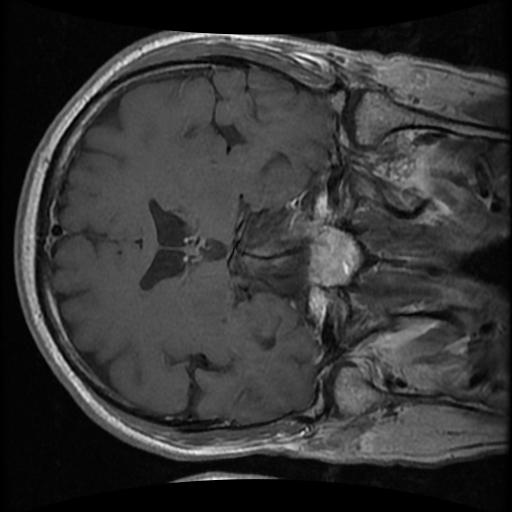pituitary tumour: (286, 210, 365, 288)
